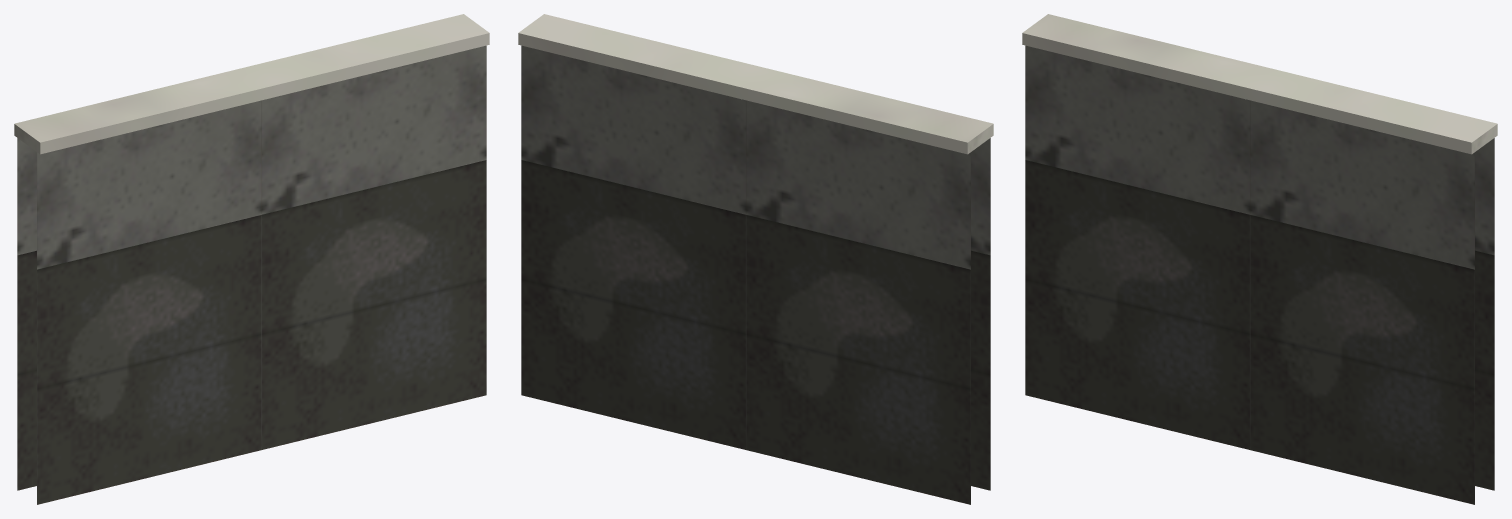
The model's file is wall_block.fbx.
3 renders of one model, left to right at view 1: azimuth 30°, elevation 25°; view 2: azimuth 150°, elevation 25°; view 3: azimuth 330°, elevation 25°, orthographic.
Visible parts, largest first — view 1: wall_block; view 2: wall_block; view 3: wall_block.
Boxes of the visible parts, x1,y1,x2,y2 form: wall_block: (14, 14, 489, 504); wall_block: (518, 14, 993, 504); wall_block: (1022, 14, 1497, 504).
Bounding box in the file's own units: 2 × 1.55 × 0.2.
